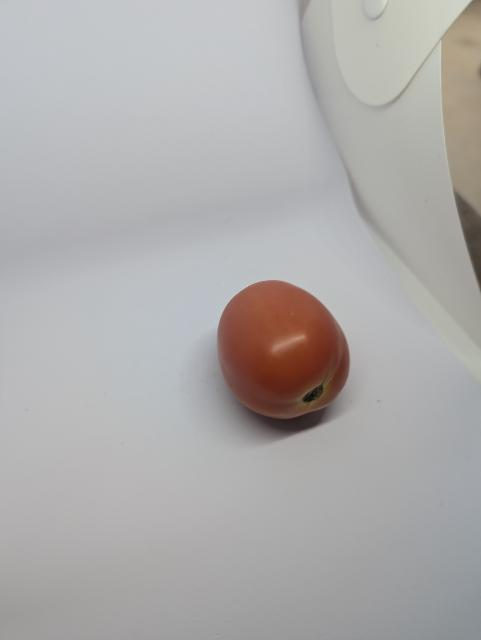red: (210, 267, 362, 445)
